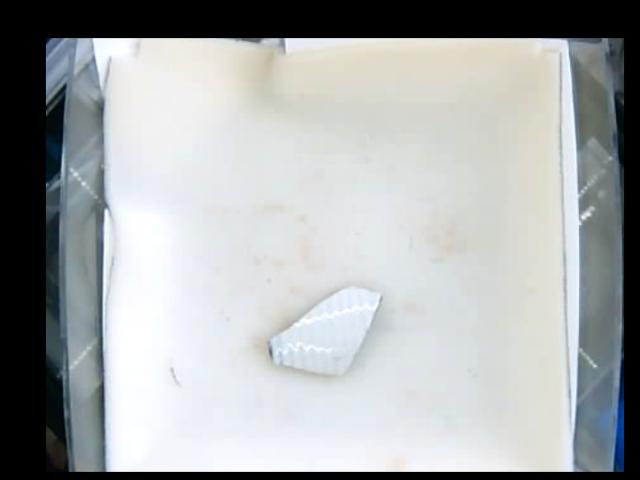China: (268, 284, 380, 377)
